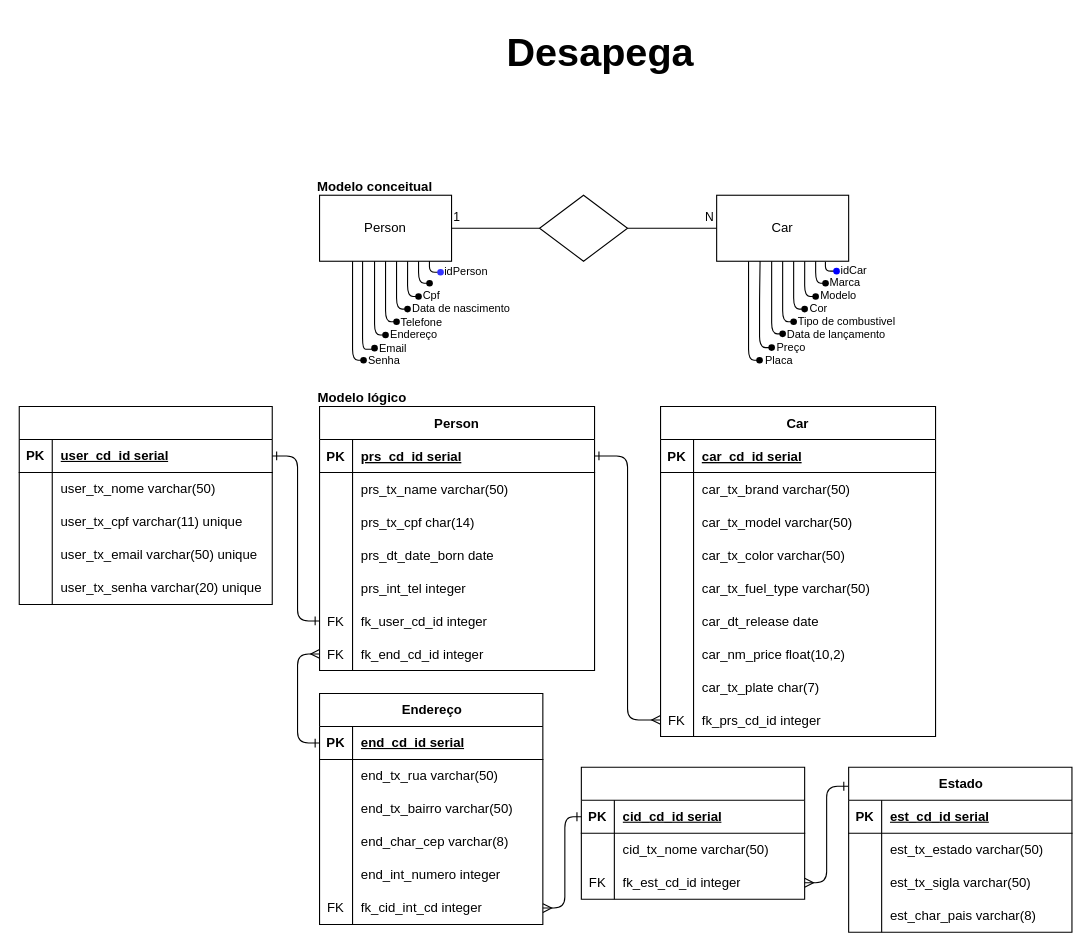
Some shapes in this 1091 by 952 pixel diagram are drawn without their labels. The box of each missing label's shape, as (x1, y1, x2, y2) in pixels:
Cidade: (580, 766, 805, 899)
Nome: (428, 260, 452, 283)
rent: (538, 194, 628, 261)
Usuario: (18, 405, 272, 604)
